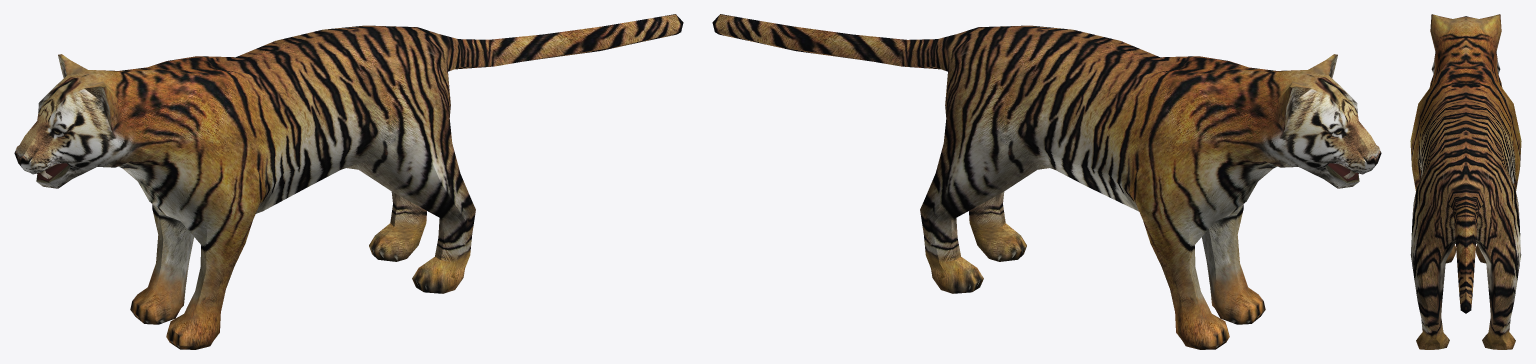
File: tiger.glb
3 views of the same model, side by side, from view 1: azimuth 30°, elevation 25°; view 2: azimuth 150°, elevation 25°; view 3: azimuth 270°, elevation 25° (orthographic). The views are drawn at different scales.
Parts seen in each view (by area): view 1: Object_2; view 2: Object_2; view 3: Object_2.
Part boxes in pixels (x1,y1,x2,y2): Object_2: [14, 14, 683, 349]; Object_2: [712, 14, 1381, 349]; Object_2: [1410, 14, 1521, 349].
Size of the model in its own units: 2.5 by 1.01 by 0.4823.
Materials: 1 (1 with a texture image).
